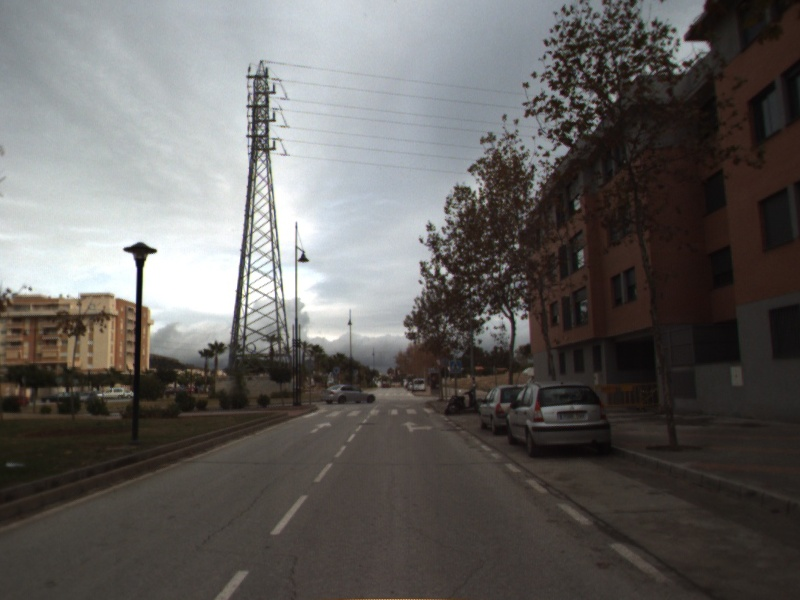STRAIGHT: (307, 419, 334, 435)
STRAIGHT_RIGHT: (399, 419, 436, 434)
